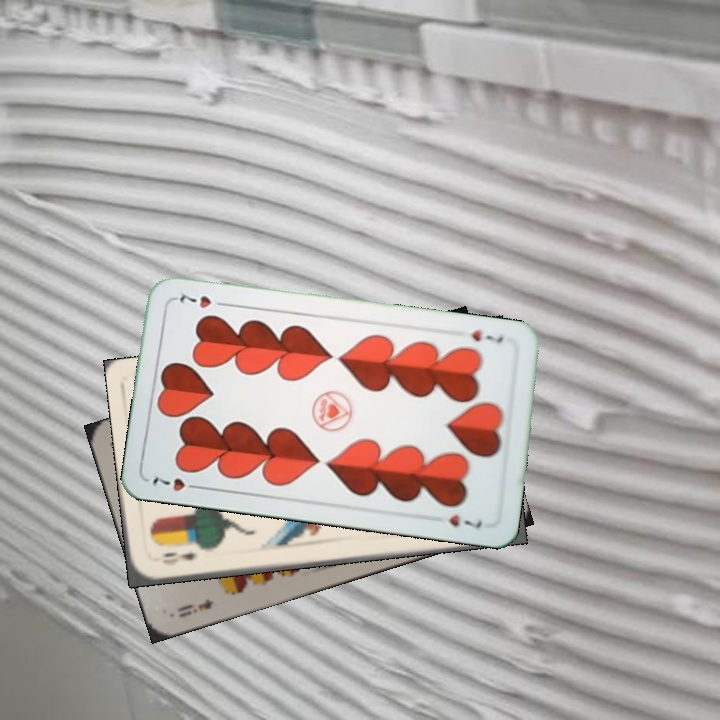E9: (173, 594, 216, 620)
EO: (157, 548, 198, 568)
H7: (148, 470, 205, 494), (467, 326, 506, 345)
